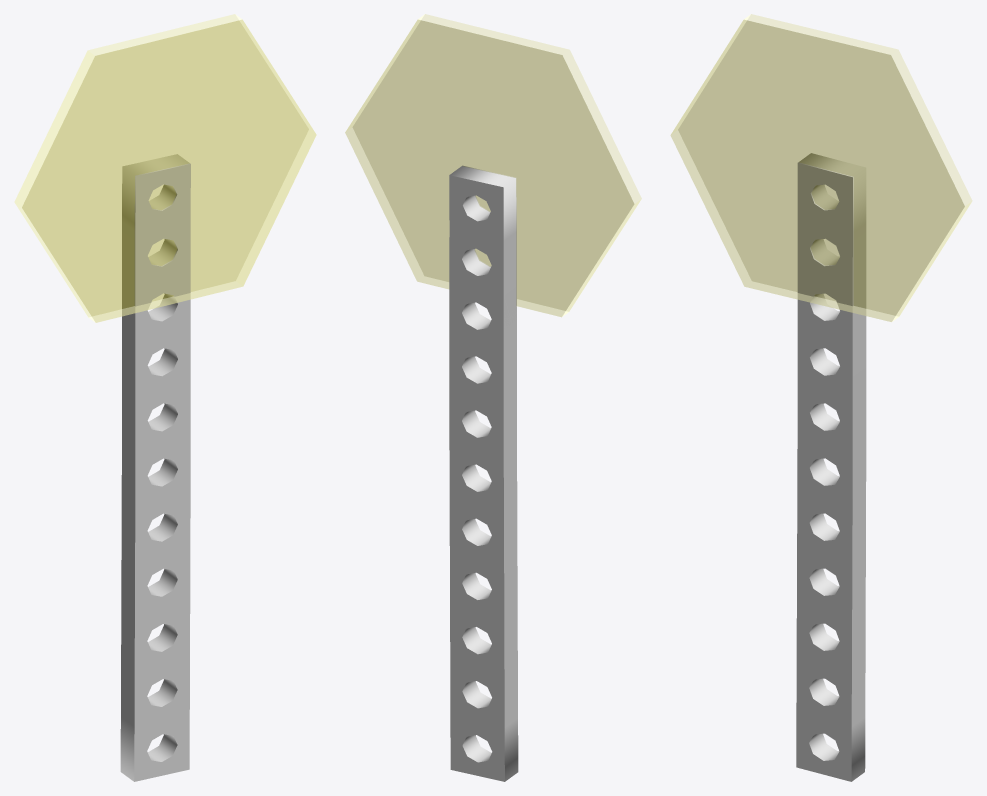
The model's file is stop sign 3.fbx.
3 renders of one model, left to right at view 1: azimuth 30°, elevation 25°; view 2: azimuth 150°, elevation 25°; view 3: azimuth 330°, elevation 25°, orthographic.
Visible parts, largest first — view 1: Plane.001; view 2: Plane.001; view 3: Plane.001.
Part boxes in pixels (<box>): Plane.001: <box>14,14,316,781</box>; Plane.001: <box>345,14,641,781</box>; Plane.001: <box>670,14,972,781</box>.
Size of the model in its own units: 235 by 566 by 28.15.
